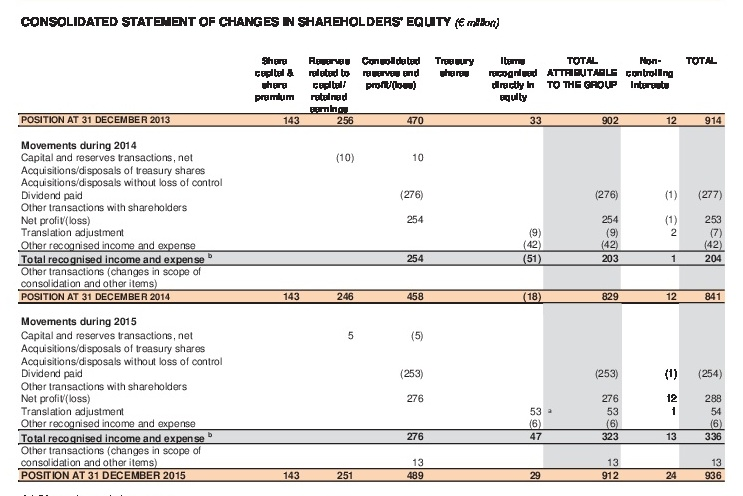table: (0, 0, 743, 496)
